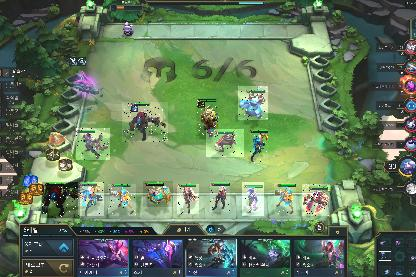1_diana: (210, 182, 230, 212)
1_leesin: (78, 182, 104, 216), (250, 128, 268, 164)
1_nunu: (238, 86, 268, 120)
1_olaf: (302, 184, 330, 216)
1_rakan: (206, 129, 244, 157), (177, 184, 199, 214)
1_rengar: (122, 102, 168, 142), (42, 182, 80, 218)
1_seraphine: (143, 181, 173, 207)
1_sylas: (76, 128, 110, 160)
1_varus: (242, 182, 264, 216)
1_volibear: (196, 98, 218, 140)
1_zeri: (108, 184, 136, 216), (274, 183, 296, 215)
